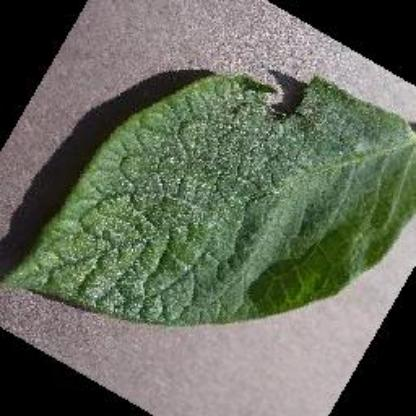Healthy-plant: (2, 64, 416, 320)
